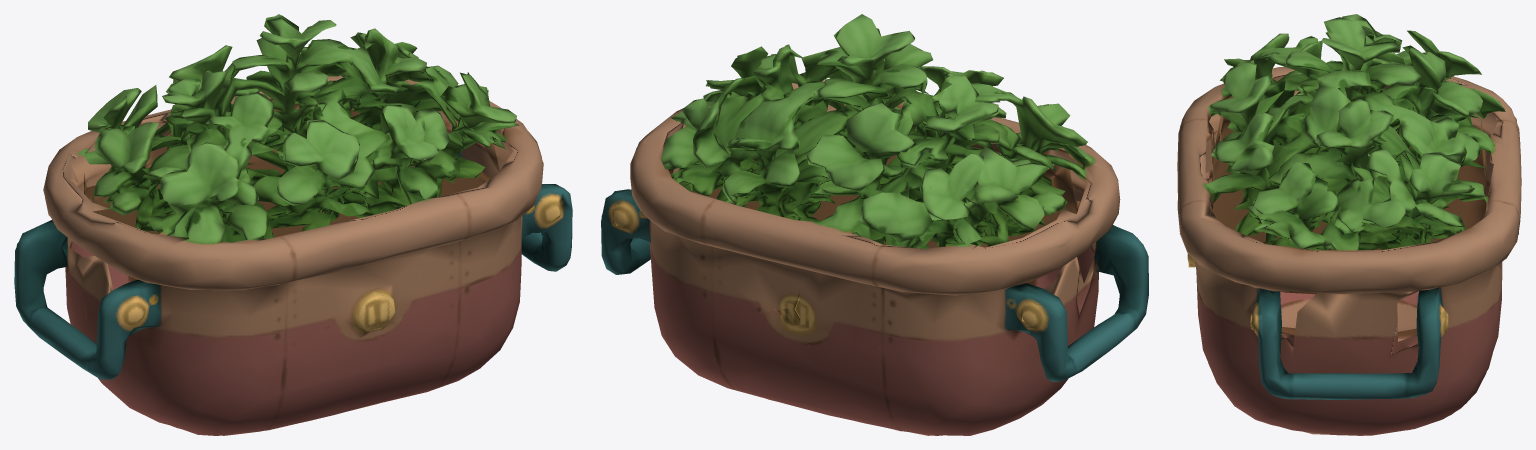
The model's file is kadka-s-zelenyu.glb.
The picture shows the model from 3 angles, left to right: view 1: azimuth 30°, elevation 25°; view 2: azimuth 150°, elevation 25°; view 3: azimuth 270°, elevation 25°; orthographic projection. The views are drawn at different scales.
Parts seen in each view (by area): view 1: geometry_0; view 2: geometry_0; view 3: geometry_0.
Part boxes in pixels (x1,y1,x2,y2): geometry_0: [14, 14, 572, 435]; geometry_0: [601, 14, 1148, 435]; geometry_0: [1177, 14, 1521, 435].
Size of the model in its own units: 1 by 0.7405 by 0.6603.
Materials: 1 (1 with a texture image).
